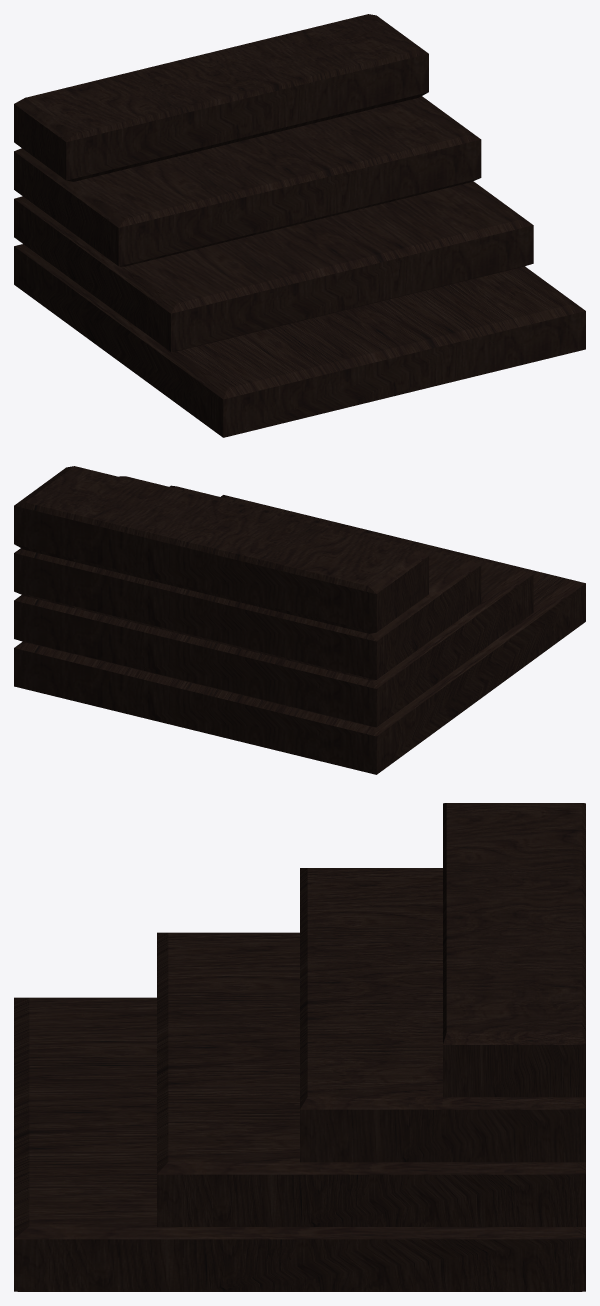
The model's file is Stair.fbx.
The picture shows the model from 3 angles, top to bottom: view 1: azimuth 30°, elevation 25°; view 2: azimuth 150°, elevation 25°; view 3: azimuth 270°, elevation 25°; orthographic projection. The views are drawn at different scales.
Parts seen in each view (by area): view 1: Tile2, Tile, Tile1, Tile3; view 2: Tile3, Tile2, Tile, Tile1; view 3: Tile2, Tile, Tile1, Tile3.
Part boxes in pixels (x1=…): Tile2: x1=14, y1=244, x2=585, y2=437; Tile: x1=14, y1=181, x2=533, y2=351; Tile1: x1=14, y1=96, x2=481, y2=266; Tile3: x1=14, y1=14, x2=428, y2=181; Tile3: x1=14, y1=466, x2=428, y2=633; Tile2: x1=14, y1=495, x2=585, y2=774; Tile: x1=14, y1=485, x2=533, y2=727; Tile1: x1=14, y1=476, x2=481, y2=680; Tile2: x1=14, y1=997, x2=585, y2=1291; Tile: x1=157, y1=932, x2=585, y2=1226; Tile1: x1=300, y1=868, x2=585, y2=1162; Tile3: x1=443, y1=803, x2=585, y2=1097.
Bounding box in the file's own units: 4 × 2 × 4.
